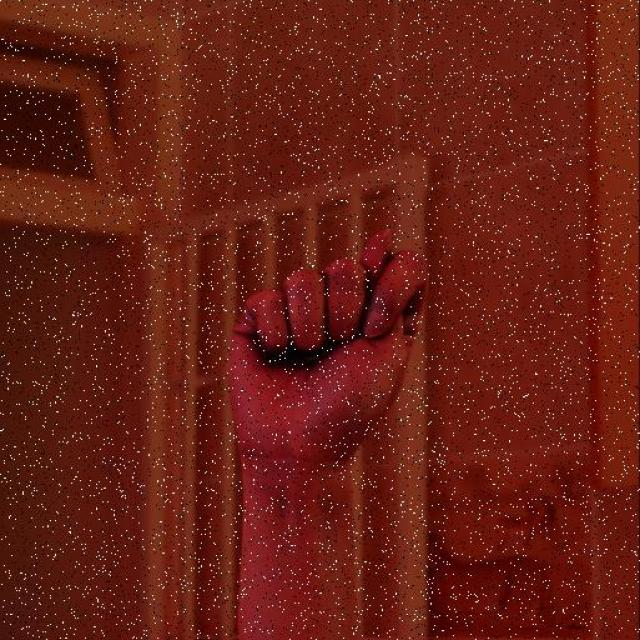T: (224, 221, 436, 469)
